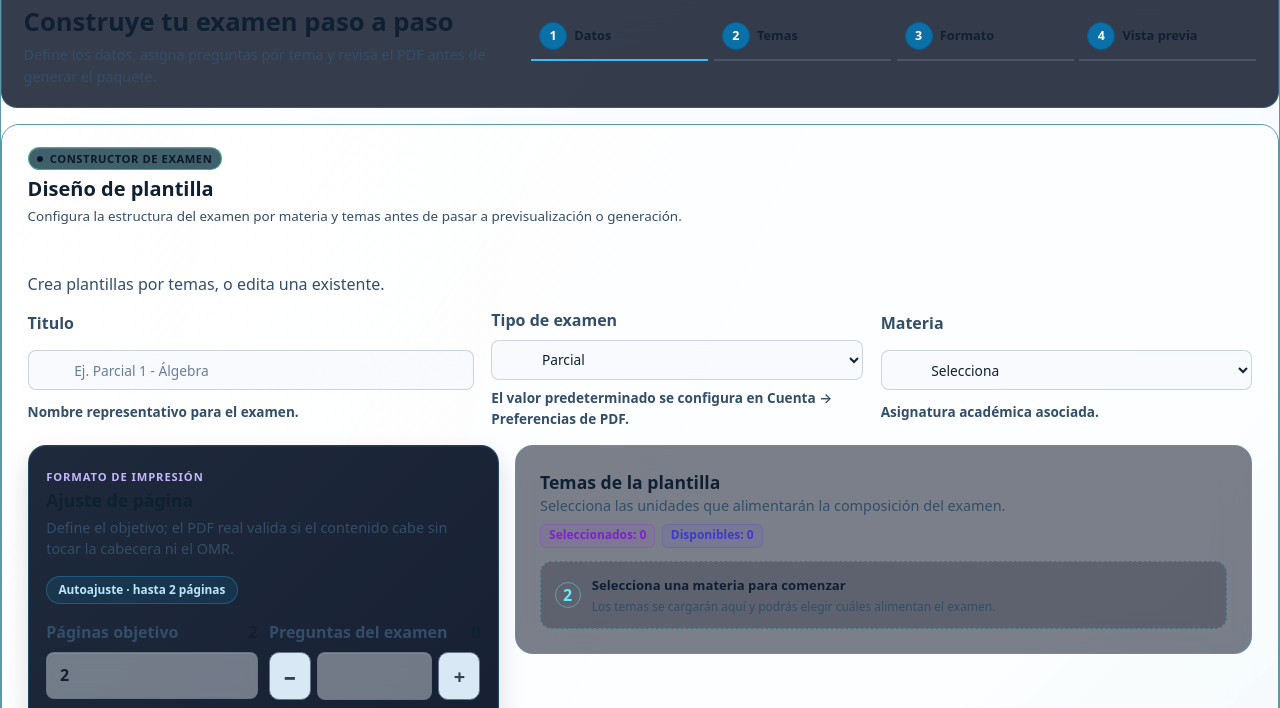
Test: plantillas refactor y navegación por pestañas (SPEC-034) › renderiza encabezado principal y pestañas operativas
(page scrolled)
Expected: the text "Selecciona una materia para comenzar" is shown, [592,576,846,594]
Expected: the number field named "Cantidad de páginas" holds "2", [46,652,258,699]
Select "Global" in the dropdown named "Tipo de plantilla" at (677, 360), box [491,340,863,380]
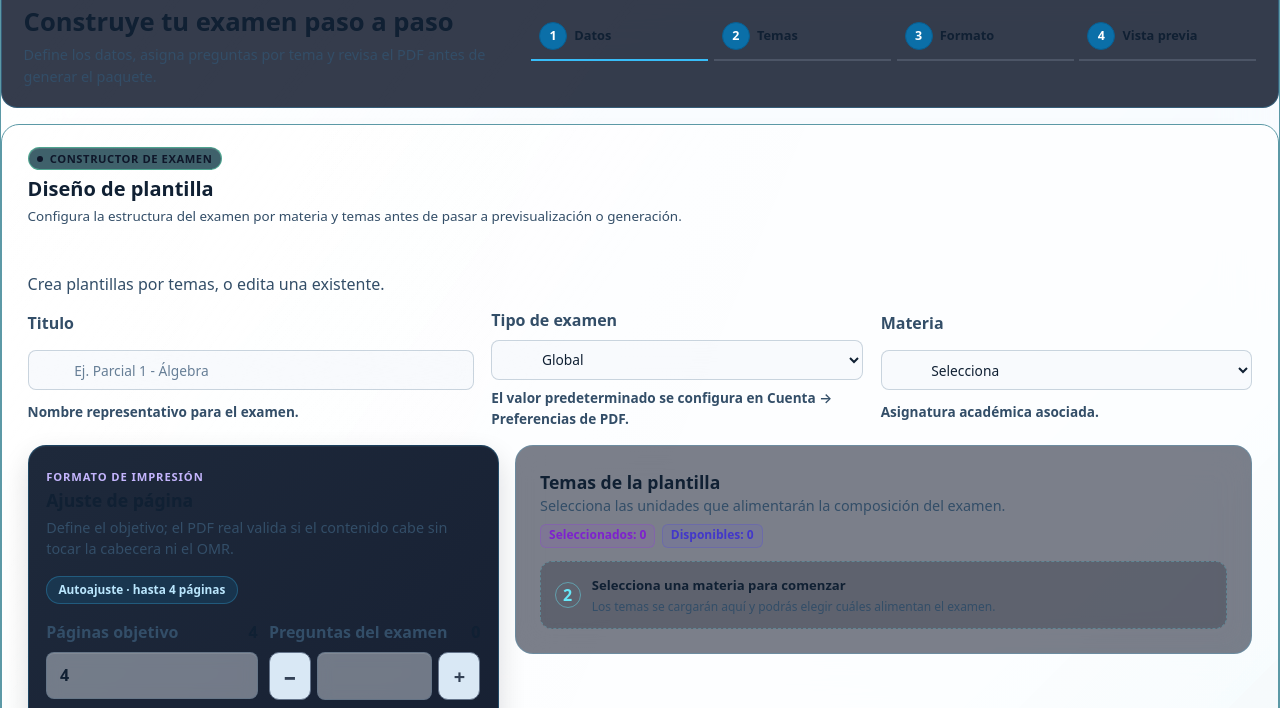
Expected: the number field named "Cantidad de páginas" holds "4", [46,652,258,699]
